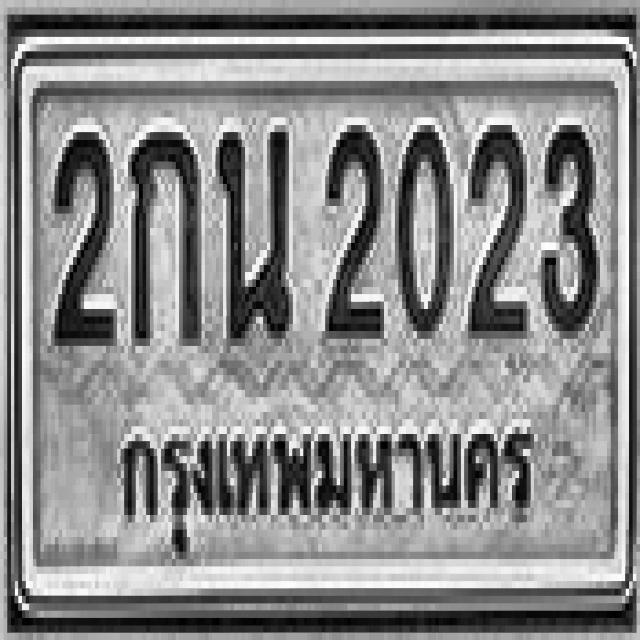license-plate: (8, 30, 637, 621)
